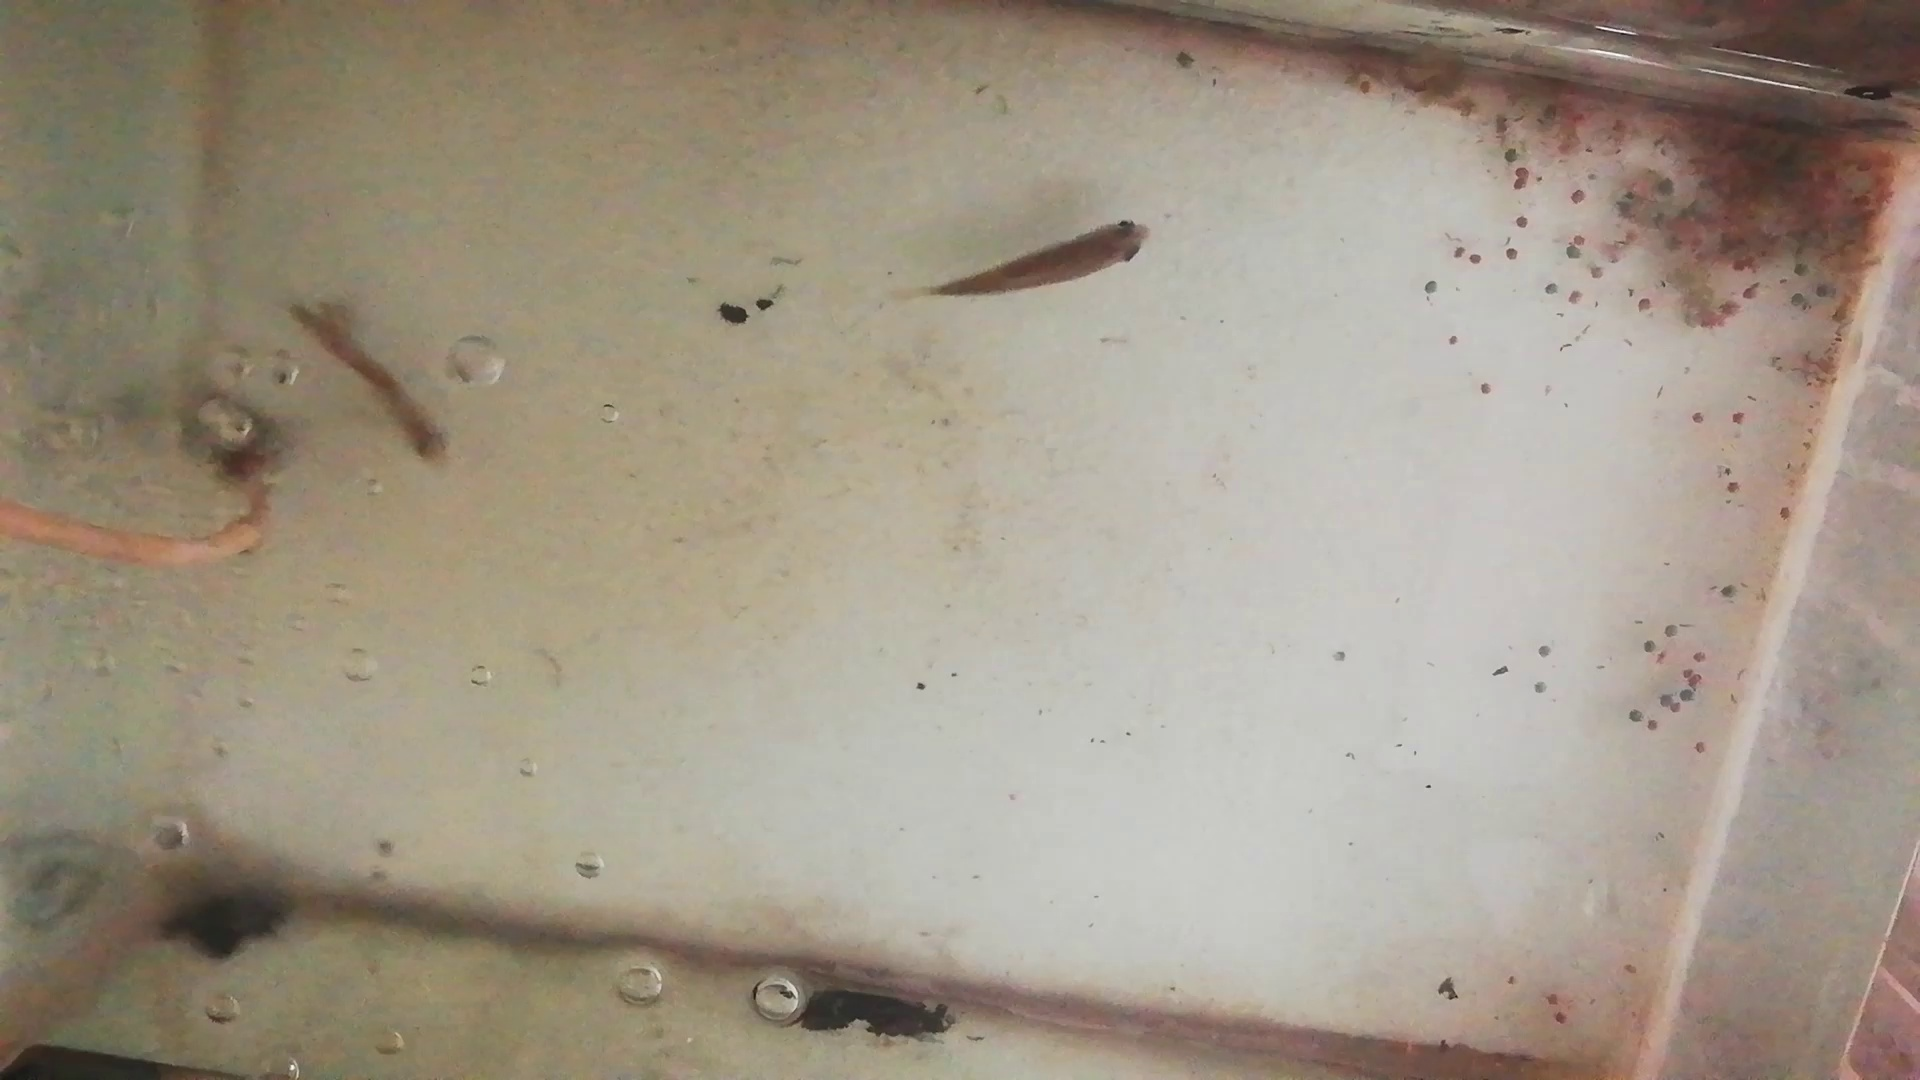fish: (287, 298, 456, 465), (920, 222, 1164, 299)
